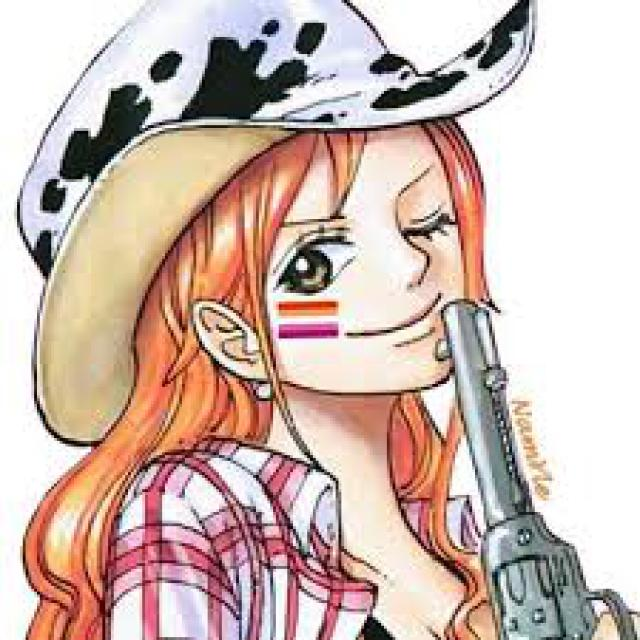Nami: (17, 0, 538, 640)
